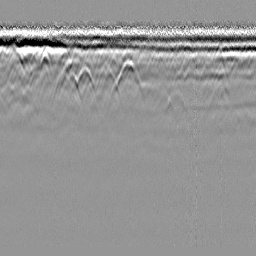cavity: (109, 57, 144, 98)
